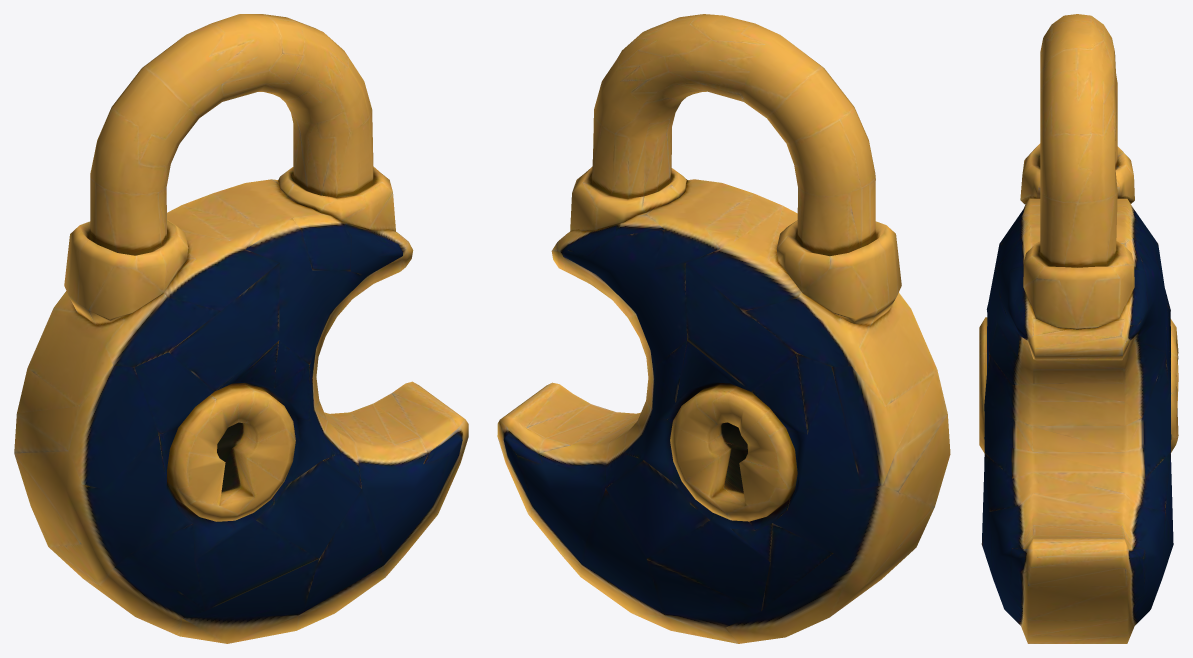
File: lock_09.glb
3 renders of one model, left to right at view 1: azimuth 30°, elevation 25°; view 2: azimuth 150°, elevation 25°; view 3: azimuth 270°, elevation 25°, orthographic. The views are drawn at different scales.
Parts seen in each view (by area): view 1: geometry_0; view 2: geometry_0; view 3: geometry_0.
Part boxes in pixels (x1,y1,x2,y2): geometry_0: [14, 14, 468, 643]; geometry_0: [497, 14, 950, 643]; geometry_0: [979, 14, 1178, 643].
Size of the model in its own units: 0.6739 by 0.9526 by 0.2925.
Materials: 1 (1 with a texture image).
